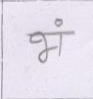anusvara: (55, 19, 63, 26)
